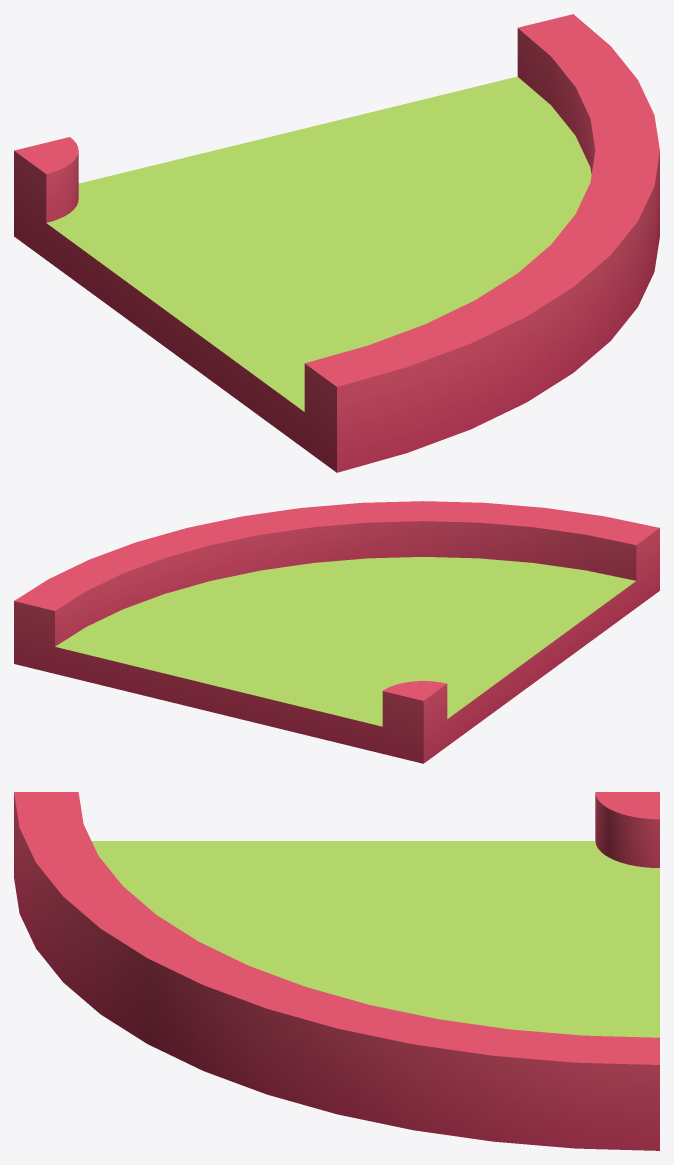
The model's file is round-corner-a.gltf.
The picture shows the model from 3 angles, top to bottom: view 1: azimuth 30°, elevation 25°; view 2: azimuth 150°, elevation 25°; view 3: azimuth 270°, elevation 25°; orthographic projection. The views are drawn at different scales.
Parts seen in each view (by area): view 1: round-corner-a; view 2: round-corner-a; view 3: round-corner-a.
Part boxes in pixels (x1=…): round-corner-a: x1=14, y1=14, x2=659, y2=472; round-corner-a: x1=14, y1=501, x2=659, y2=763; round-corner-a: x1=14, y1=792, x2=659, y2=1150.
Bounding box in the file's own units: 0.9999 × 0.1467 × 0.9999.
Materials: 1 (1 with a texture image).
